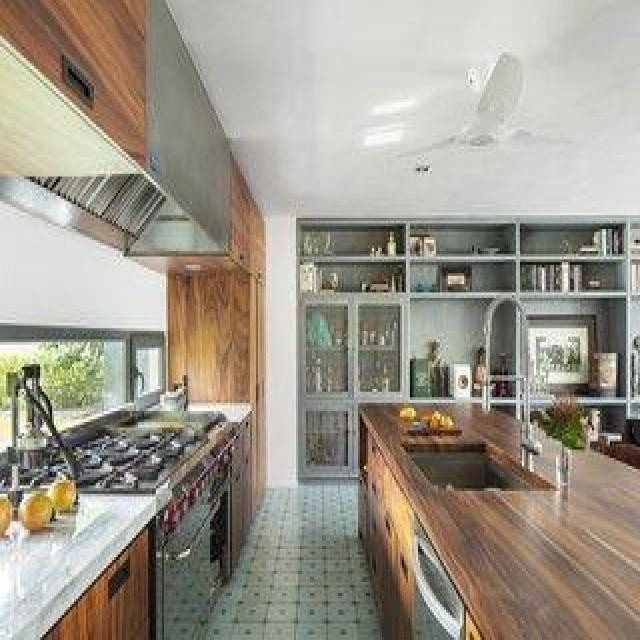dishwasher: (408, 513, 466, 640)
